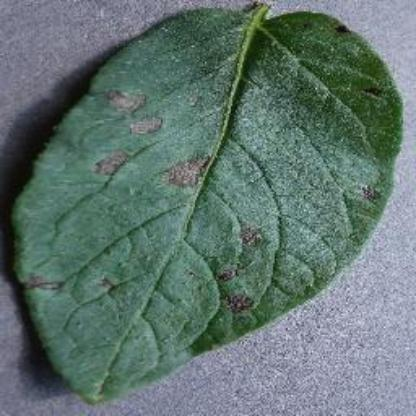Early-Blight: (14, 6, 396, 402)
